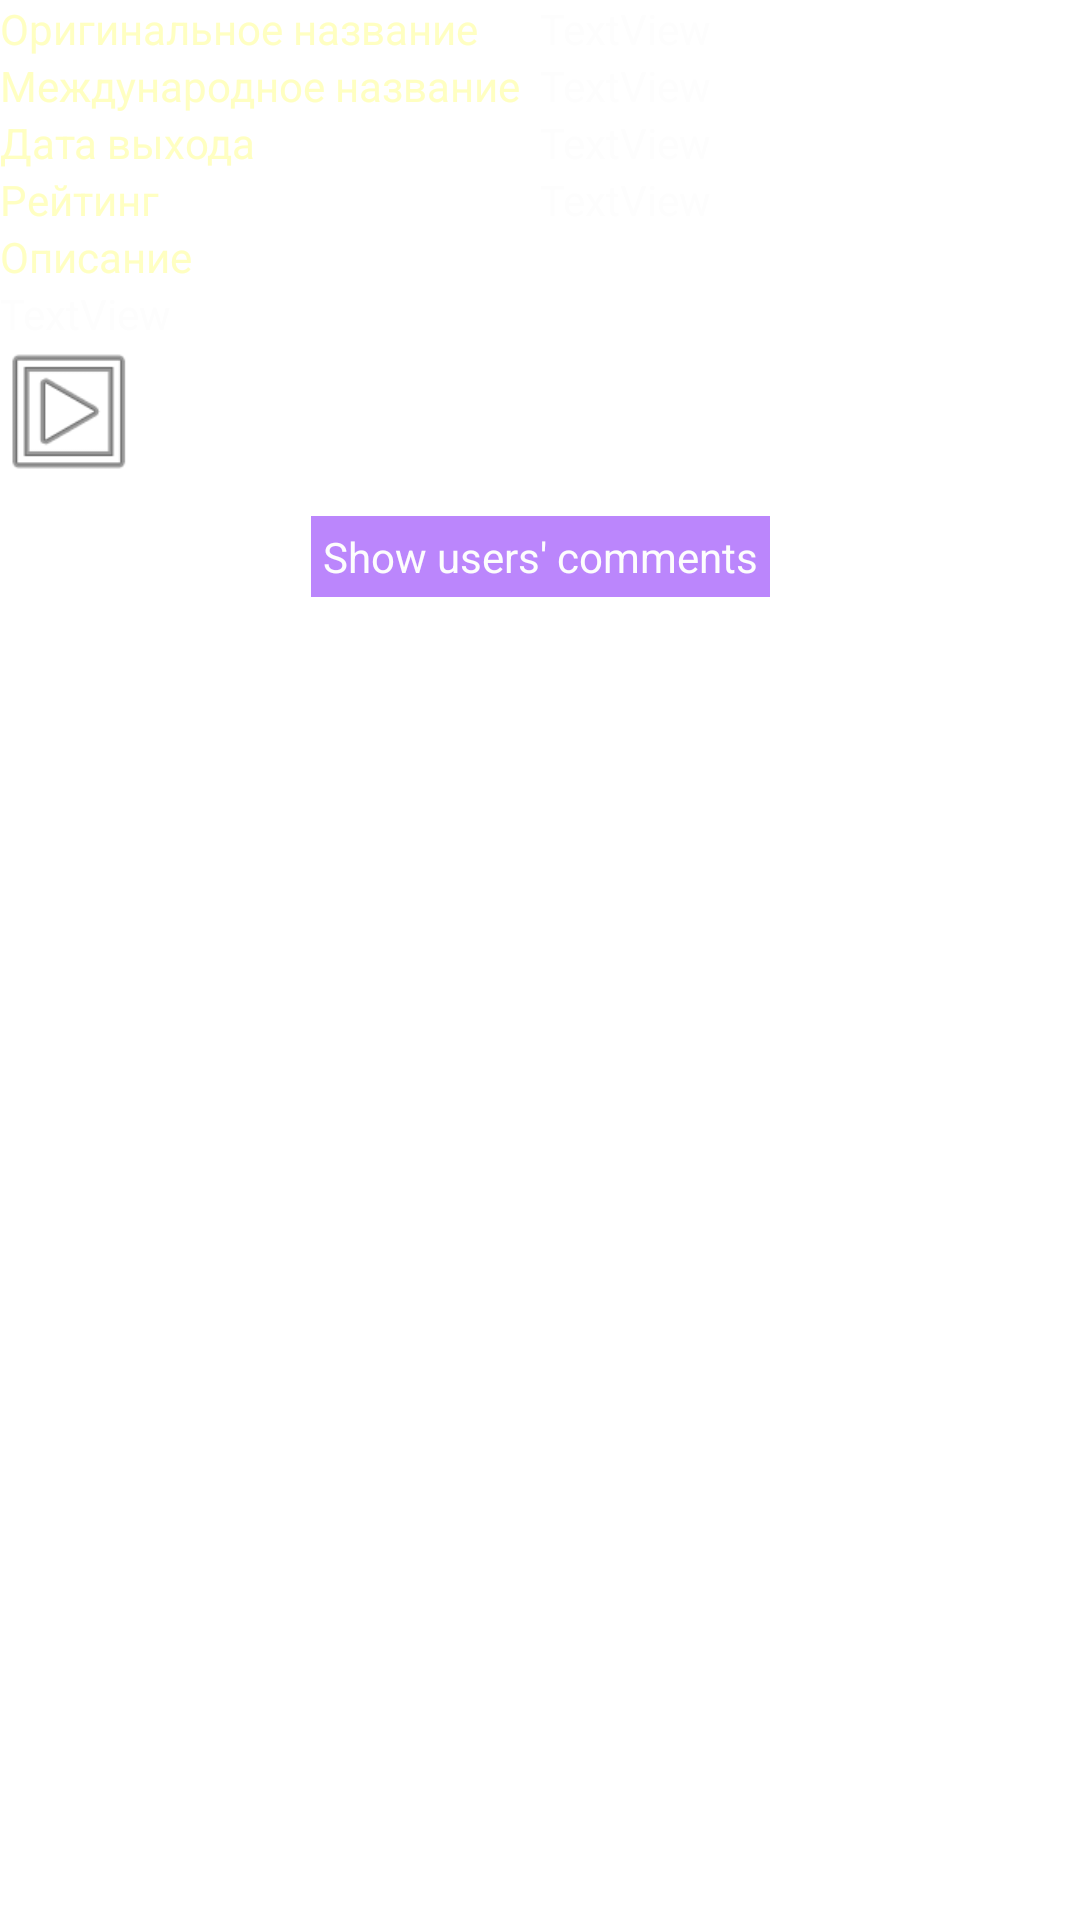

Where to tap for icons on this 1080 x 1920 app screen, as point (x, y):
slideshow: point (68, 412)
